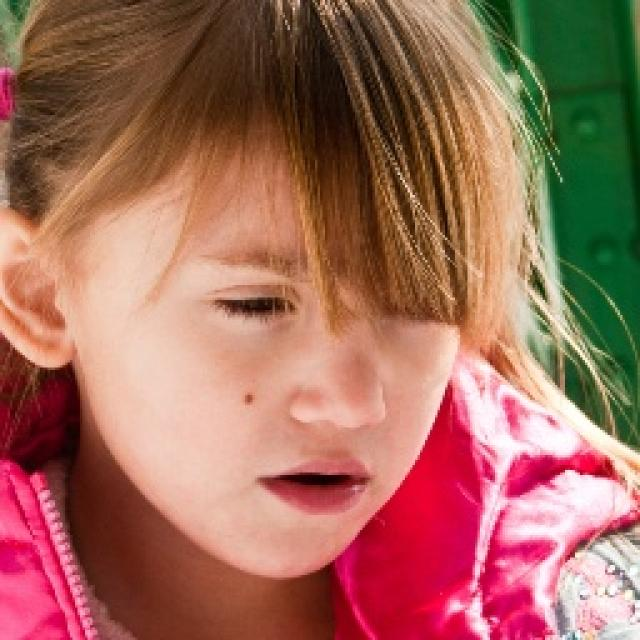earlobe: (27, 325, 78, 369)
eye: (197, 284, 306, 322)
nose: (297, 412, 373, 454)
wholeear: (0, 202, 78, 368)
